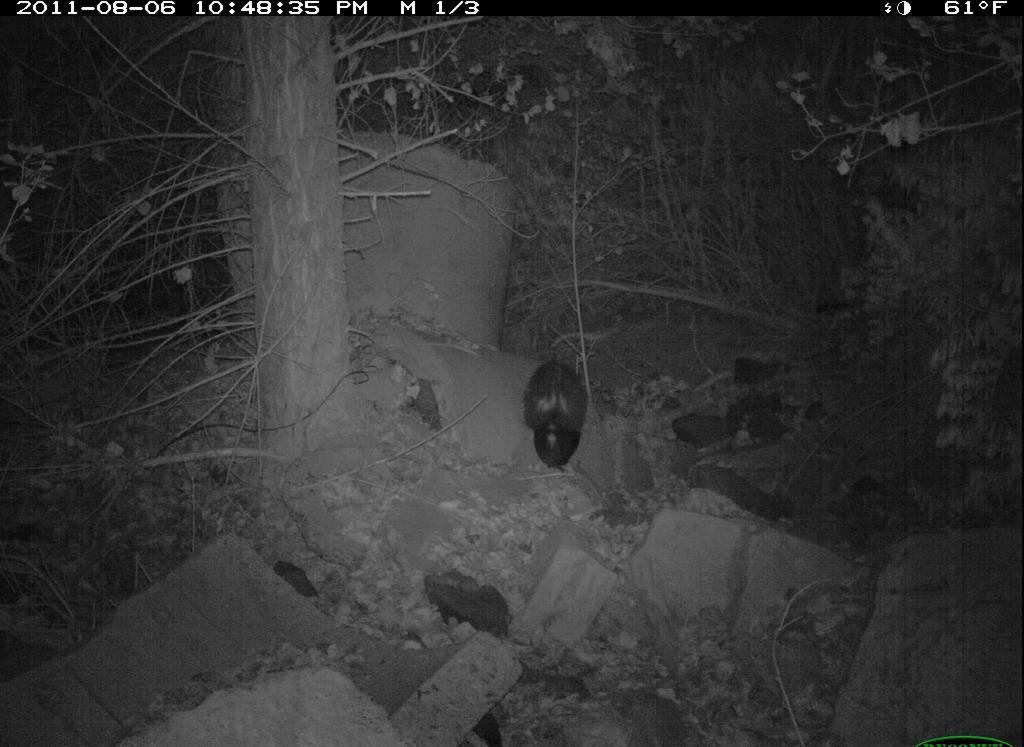skunk: (520, 341, 609, 481)
